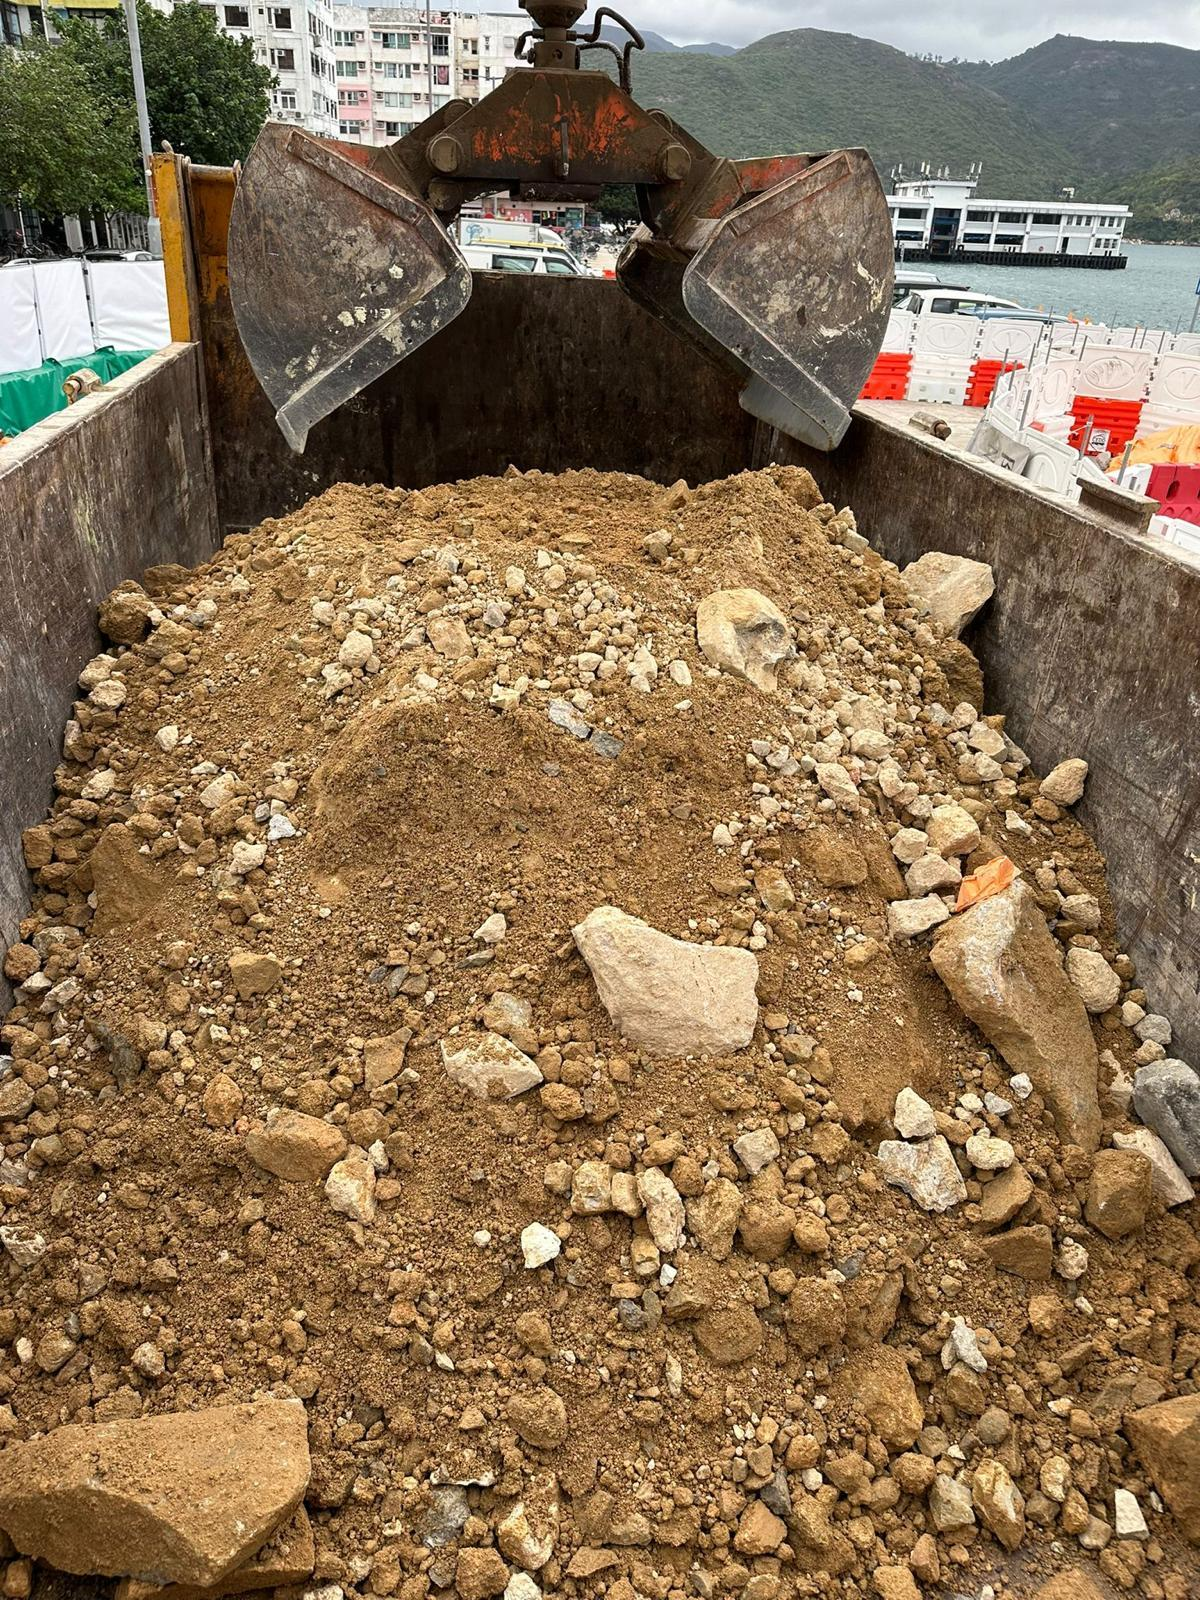dry: (5, 475, 1200, 1600)
